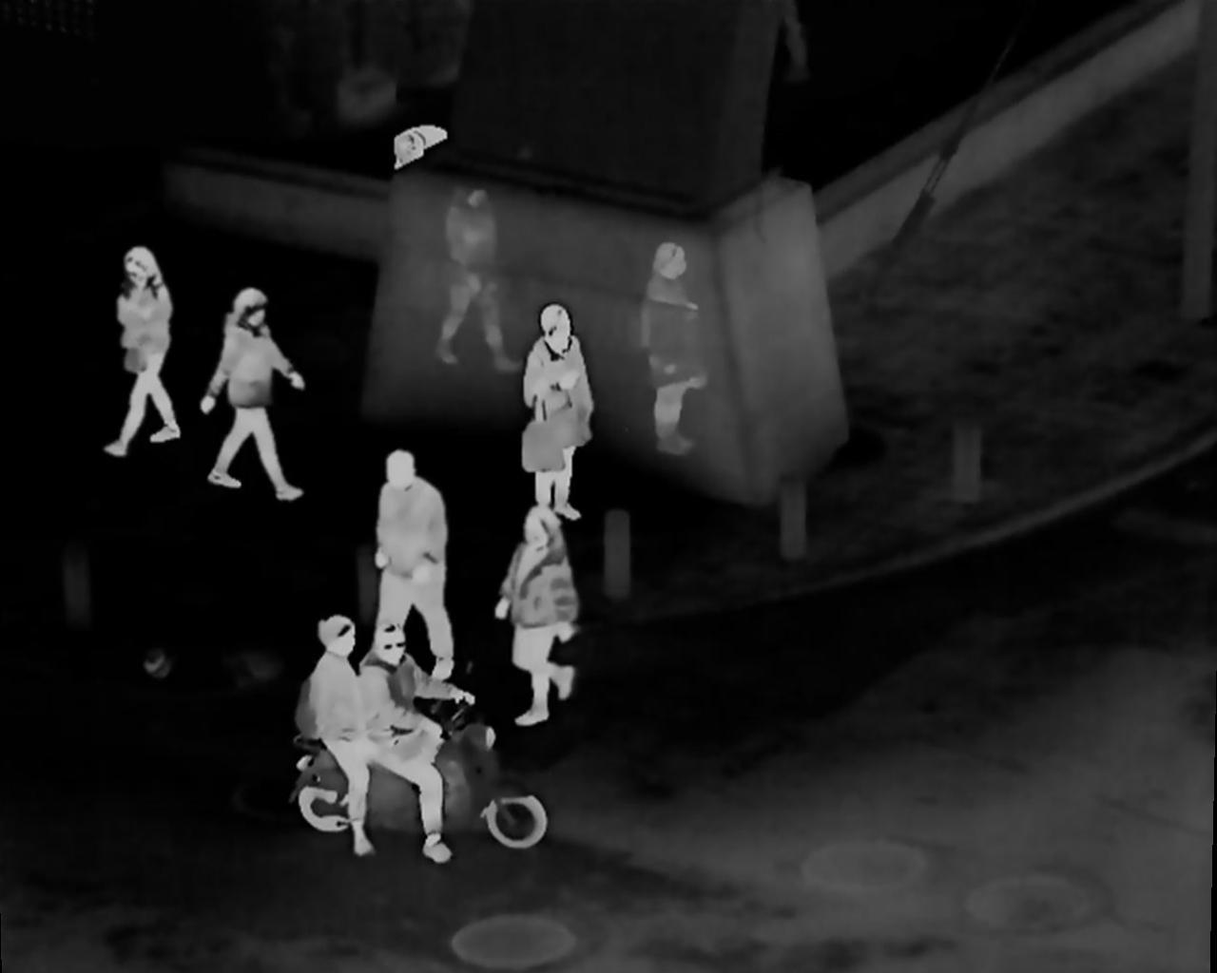person: (365, 446, 456, 685), (361, 621, 452, 856), (207, 283, 299, 490), (319, 621, 391, 842), (502, 493, 575, 709), (106, 245, 177, 463), (516, 300, 587, 514)
